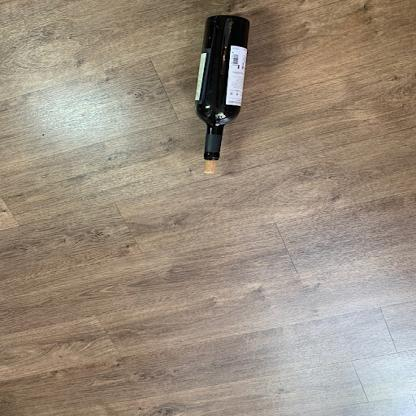trash: (194, 14, 256, 158)
